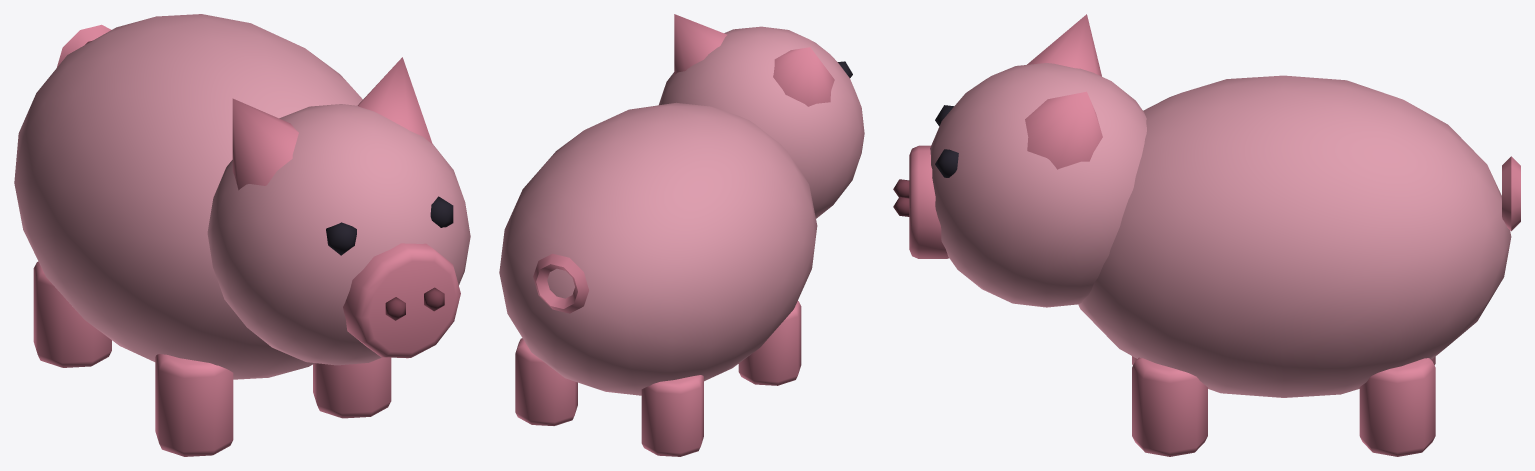
The model's file is pig.fbx.
3 views of the same model, side by side, from view 1: azimuth 30°, elevation 25°; view 2: azimuth 150°, elevation 25°; view 3: azimuth 270°, elevation 25° (orthographic). The views are drawn at different scales.
Parts seen in each view (by area): view 1: Body, Head; view 2: Body, Head; view 3: Body, Head.
Boxes of the visible parts, <box> form: Body: <box>14,14,391,456</box>; Head: <box>207,57,470,365</box>; Body: <box>499,102,817,456</box>; Head: <box>659,14,864,218</box>; Body: <box>1078,75,1520,456</box>; Head: <box>893,14,1146,307</box>.
Bounding box in the file's own units: 0.36 × 0.4141 × 0.662.
